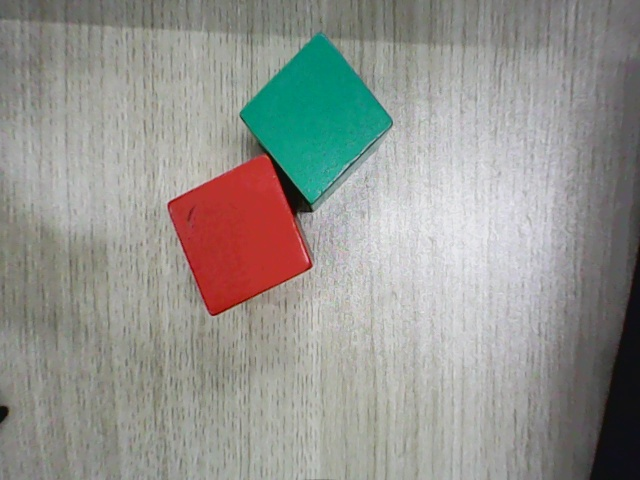upside of big cube: (239, 31, 394, 205), (168, 151, 311, 317)
